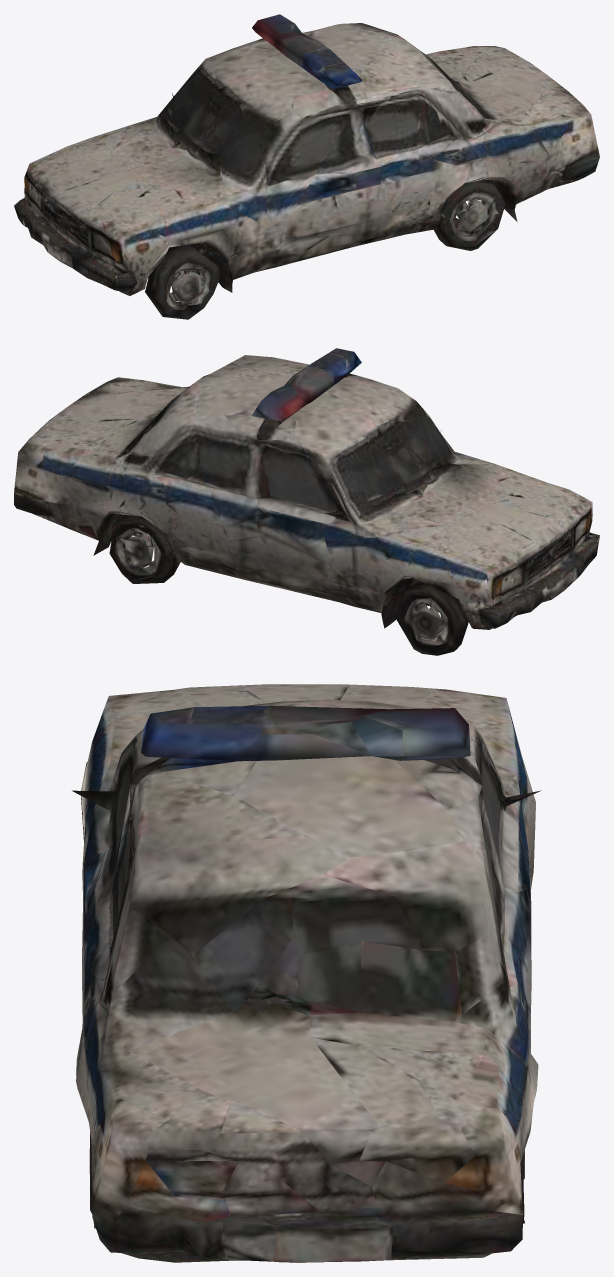
Rendered from patrol3.glb.
3 renders of one model, top to bottom at view 1: azimuth 30°, elevation 25°; view 2: azimuth 150°, elevation 25°; view 3: azimuth 270°, elevation 25°, orthographic. The views are drawn at different scales.
Size of the model in its own units: 144 by 54.13 by 58.59.
1 material, 1 textured.
